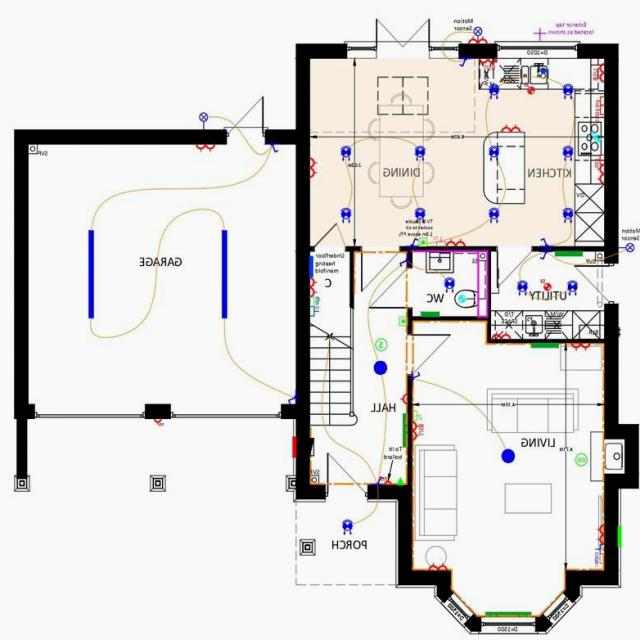BT Entry Point: (391, 473, 409, 488)
Cat 6 Data Socket: (300, 305, 319, 319), (593, 543, 606, 554)
Ceiling Mounted Continuous Extract Fan With Boost Mode Activated By Light Switch: (456, 293, 466, 304)
Ceiling Mounted Continuous Extract Fan With Local Boost Switch: (520, 81, 536, 96), (540, 276, 552, 295)
Co-Ax TV Socket: (433, 232, 445, 250), (591, 552, 605, 565)
Consumer Unit: (304, 431, 318, 460)
Double Socket: (303, 275, 328, 297), (566, 338, 598, 352), (308, 152, 321, 183), (190, 139, 218, 152), (496, 119, 524, 132), (490, 330, 513, 344), (459, 34, 491, 44), (592, 523, 607, 544), (447, 234, 466, 249), (592, 163, 605, 184), (425, 560, 452, 570)
Electric Meter Box: (289, 431, 297, 460)
External Wall Light: (194, 110, 213, 128), (617, 241, 638, 256), (469, 23, 484, 38)
Gas Meter Box: (614, 516, 623, 552)
Grid Switch: (592, 103, 605, 116)
Hob Switch: (593, 92, 604, 106)
Light Switch: (534, 247, 552, 261), (409, 366, 422, 384), (404, 233, 419, 248), (266, 142, 282, 156), (456, 56, 470, 71), (368, 472, 383, 485), (534, 237, 553, 246), (284, 391, 296, 404), (397, 255, 408, 268)
Low Energy Downlighter: (335, 514, 361, 535), (410, 202, 431, 227), (410, 141, 430, 164), (512, 276, 531, 297), (437, 272, 455, 294), (340, 139, 354, 166), (484, 80, 502, 101), (336, 205, 354, 225), (563, 277, 581, 297), (558, 203, 574, 224), (485, 142, 499, 164), (486, 206, 503, 224), (561, 81, 575, 102), (559, 142, 573, 161)
Low Energy Pendant Light: (497, 442, 517, 466), (367, 357, 390, 376)
Mains Wired Smoke Detector: (373, 333, 389, 354)
Outside Tap: (529, 26, 548, 40)
Oven Switch: (593, 152, 606, 164)
Programmable Room Thermostat: (396, 313, 411, 327), (416, 233, 429, 247)
Radiator: (529, 337, 561, 354), (397, 411, 408, 451), (477, 606, 539, 613), (551, 250, 590, 260), (412, 307, 444, 316)
Recirculating Extractor Fan: (588, 129, 602, 144)
Single Socket: (393, 387, 411, 408), (382, 470, 394, 486)
Telephone Socket: (300, 295, 324, 307), (409, 405, 426, 421)
Twin LED Strip Light: (214, 224, 233, 327), (83, 225, 98, 322), (149, 416, 168, 426)
USB Double Socket: (408, 420, 426, 445), (588, 57, 605, 83), (476, 56, 499, 68)
Underfloor Heating Manifold: (305, 250, 319, 276)
Water Entry Position: (540, 64, 548, 74)
